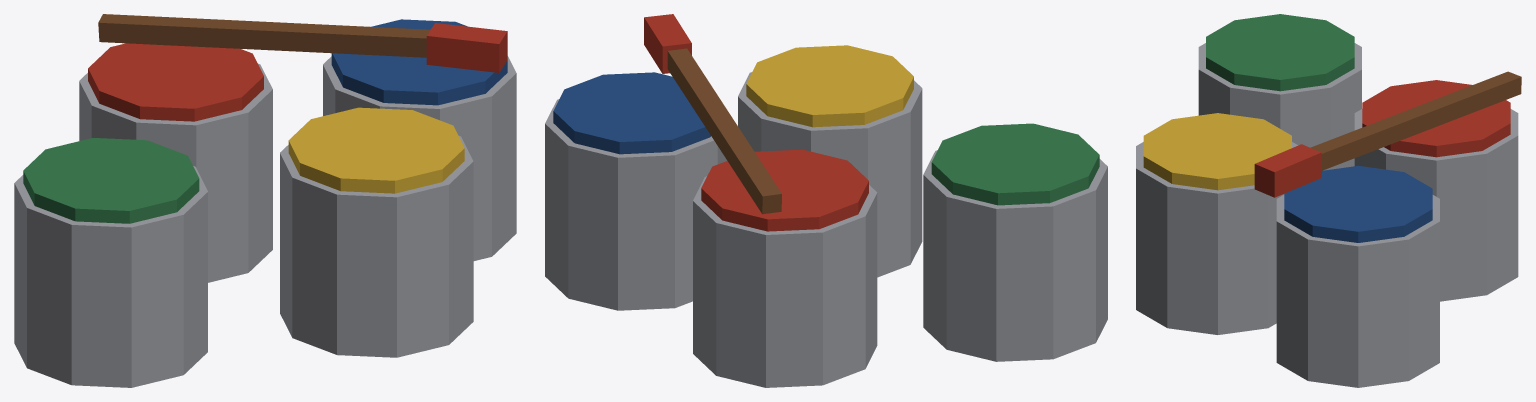
Rendered from c-paint-pots.glb.
3 views of the same model, side by side, from view 1: azimuth 30°, elevation 25°; view 2: azimuth 150°, elevation 25°; view 3: azimuth 270°, elevation 25° (orthographic). The views are drawn at different scales.
Parts seen in each view (by area): view 1: c-paint-pots; view 2: c-paint-pots; view 3: c-paint-pots.
Part boxes in pixels (x1=…): c-paint-pots: x1=14, y1=14, x2=516, y2=387; c-paint-pots: x1=545, y1=14, x2=1107, y2=387; c-paint-pots: x1=1136, y1=14, x2=1521, y2=387.
Bounding box in the file's own units: 0.34 × 0.139 × 0.2469.
